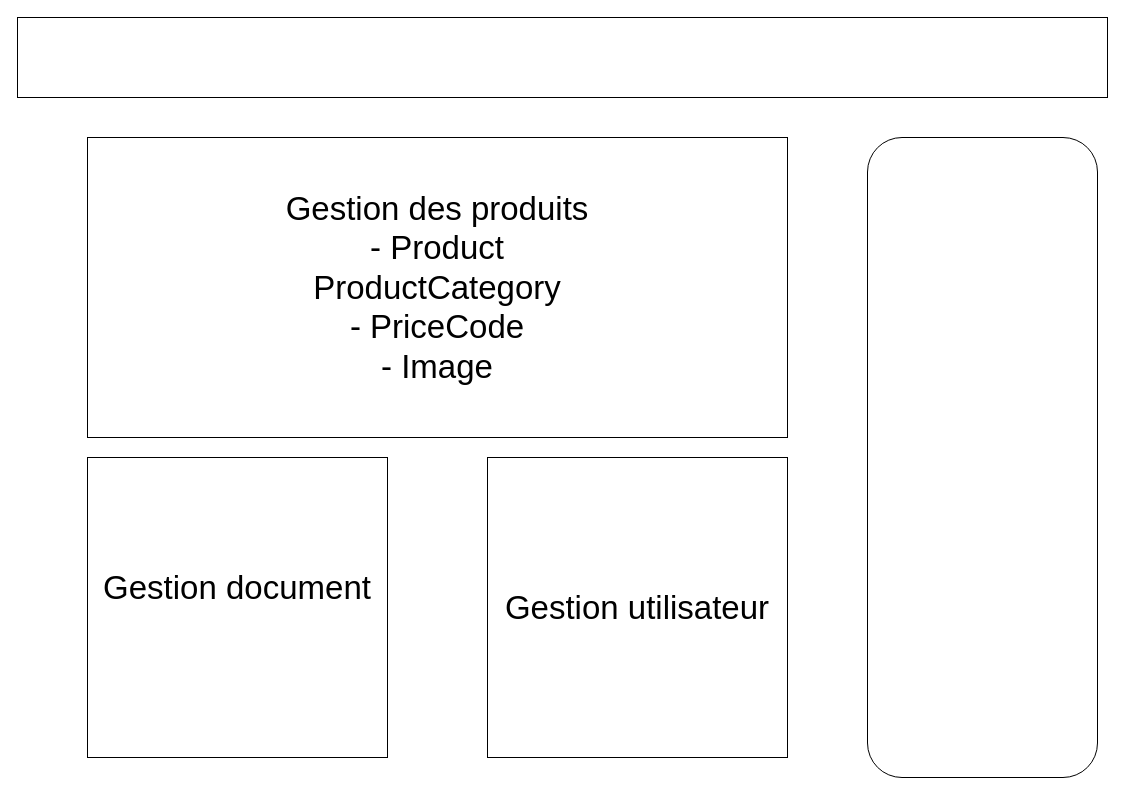
The diagram is 1125 pixels wide and 795 high, and some of its shapes have lost their labels. Here are the shapes that lost their labels. From the top down, the box of each, then its label:
(16, 16, 1108, 98): Bandeau menu
(866, 136, 1098, 778): Mise en avant infos & simples tests
